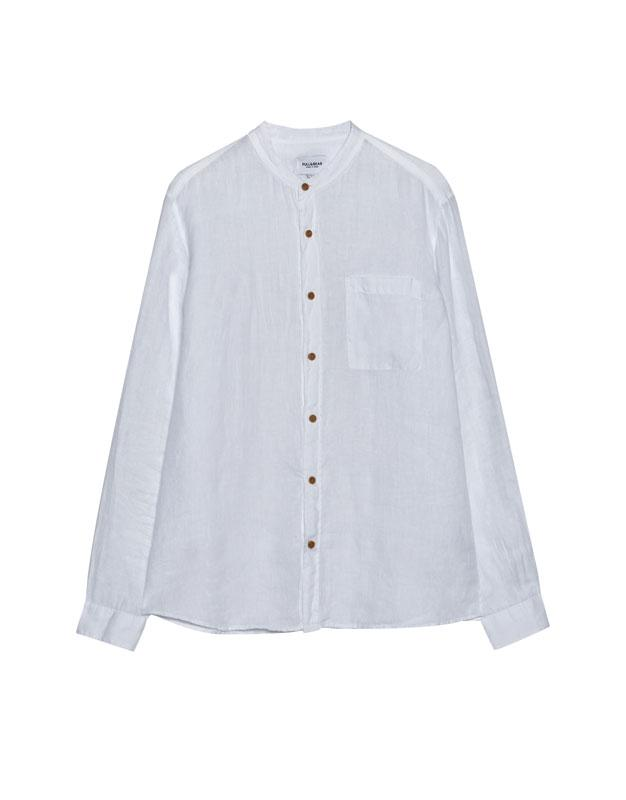teeshirt: (80, 116, 553, 670)
